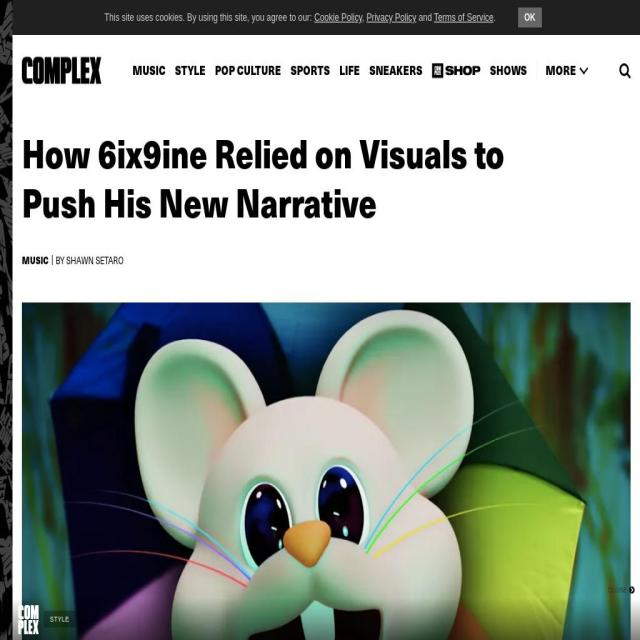button: (22, 302, 630, 640), (22, 127, 562, 226), (22, 57, 101, 84), (210, 61, 286, 80), (12, 598, 44, 640), (364, 61, 427, 80), (427, 61, 485, 80), (541, 60, 593, 80), (286, 61, 334, 80), (485, 61, 531, 80), (128, 61, 170, 80), (170, 61, 210, 80), (55, 255, 124, 265), (334, 61, 364, 80), (517, 8, 542, 28), (22, 255, 52, 265), (620, 62, 630, 78)
heading: (22, 127, 562, 226), (22, 57, 101, 84)
image: (22, 302, 630, 640), (0, 0, 12, 640), (431, 62, 481, 78), (17, 604, 39, 634), (620, 62, 630, 78), (629, 582, 635, 598)
link: (434, 11, 494, 23), (366, 11, 417, 23), (314, 11, 362, 23)
text: (104, 11, 314, 23), (541, 60, 593, 80), (44, 611, 76, 627), (416, 11, 434, 23), (608, 586, 628, 594), (362, 11, 367, 23), (493, 11, 496, 23)
